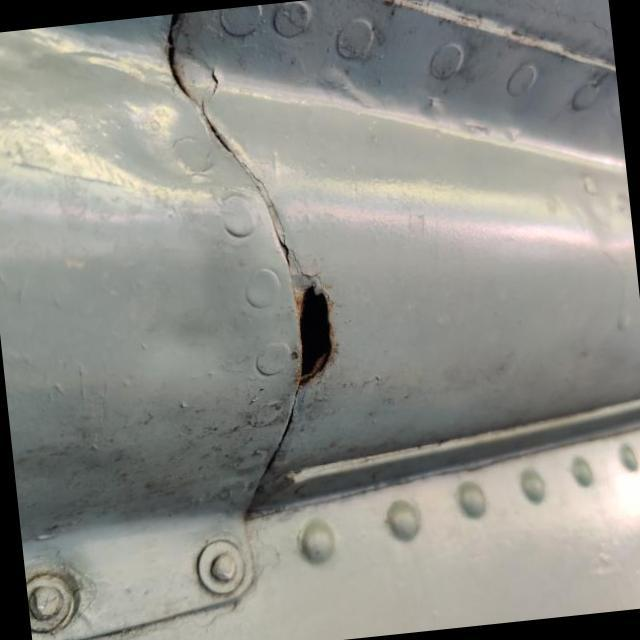Rupture: (257, 264, 352, 407)
